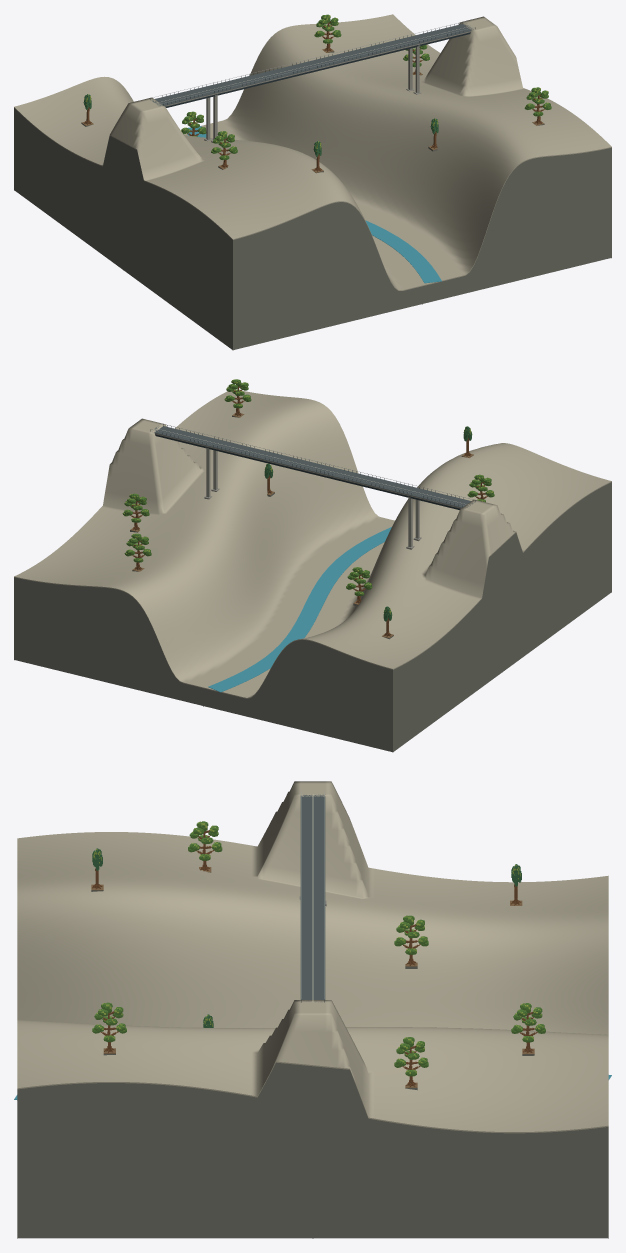
3 views of the same model, one above another, from view 1: azimuth 30°, elevation 25°; view 2: azimuth 150°, elevation 25°; view 3: azimuth 270°, elevation 25° (orthographic). The views are drawn at different scales.
Visible parts, largest first — view 1: 连续岩土实体与最小原生岩块 (×4), 分层路床、承梁、支座和实墩, 既有量化乔木树干与错层冠母版 (×3), 连续水体表面与真实米制流向; view 2: 连续岩土实体与最小原生岩块 (×4), 分层路床、承梁、支座和实墩, 连续水体表面与真实米制流向, 既有量化乔木树干与错层冠母版 (×4); view 3: 连续岩土实体与最小原生岩块 (×4), 分层路床、承梁、支座和实墩, 既有量化乔木树干与错层冠母版 (×5).
Boxes of the visible parts, left/top/right/bottom form: 连续岩土实体与最小原生岩块 (×4): left=14, top=14, right=611, bottom=350; 分层路床、承梁、支座和实墩: left=150, top=21, right=475, bottom=142; 既有量化乔木树干与错层冠母版 (×3): left=211, top=14, right=551, bottom=168; 连续水体表面与真实米制流向: left=187, top=126, right=441, bottom=283; 连续岩土实体与最小原生岩块 (×4): left=14, top=389, right=611, bottom=752; 分层路床、承梁、支座和实墩: left=150, top=423, right=475, bottom=549; 连续水体表面与真实米制流向: left=208, top=527, right=391, bottom=692; 既有量化乔木树干与错层冠母版 (×4): left=122, top=379, right=372, bottom=604; 连续岩土实体与最小原生岩块 (×4): left=17, top=781, right=608, bottom=1238; 分层路床、承梁、支座和实墩: left=299, top=791, right=326, bottom=1002; 既有量化乔木树干与错层冠母版 (×5): left=92, top=821, right=545, bottom=1086.
Size of the model in its own units: 192 by 78.29 by 194.
Materials: 15 (14 with a texture image).
